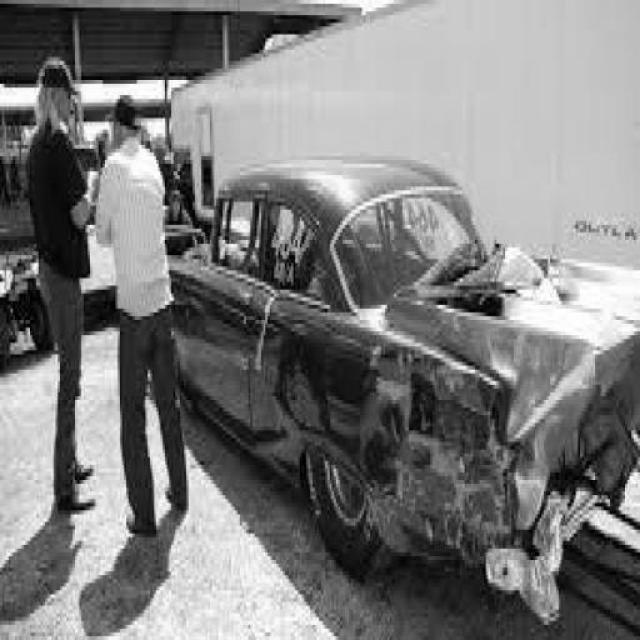crush: (365, 239, 640, 619)
